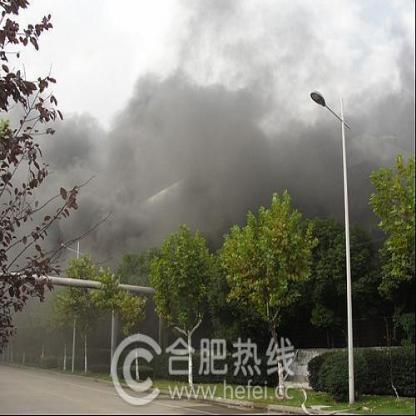smoke: (174, 68, 235, 219), (102, 90, 168, 224), (50, 108, 106, 215), (237, 66, 282, 190), (287, 112, 329, 204)
